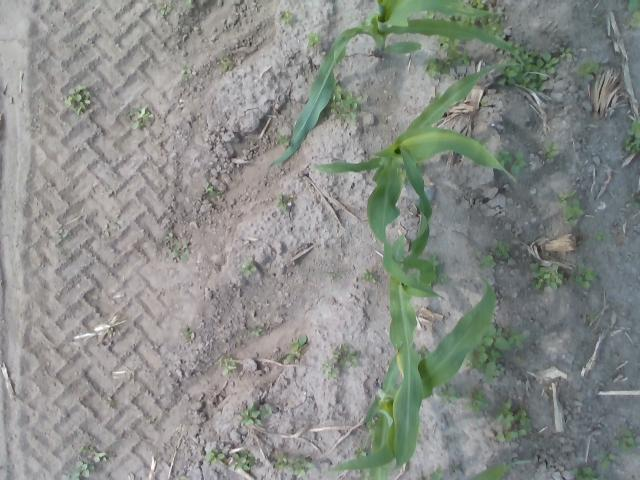Maize: (314, 68, 518, 294), (267, 0, 524, 163), (361, 276, 496, 480), (389, 142, 435, 473), (378, 457, 528, 480)
Weeds: (466, 325, 528, 382), (497, 42, 559, 93), (323, 80, 361, 125), (494, 399, 532, 441), (530, 260, 566, 292), (436, 34, 472, 66), (556, 190, 584, 227), (62, 83, 92, 115), (274, 454, 314, 478), (492, 148, 526, 173), (569, 262, 598, 289), (240, 403, 272, 426), (125, 106, 153, 132), (282, 333, 308, 361), (428, 252, 448, 286), (366, 395, 380, 442), (334, 343, 359, 369), (439, 11, 476, 28), (623, 118, 640, 154), (465, 386, 488, 412), (613, 428, 637, 452), (65, 460, 93, 480), (478, 15, 503, 37), (436, 382, 460, 404), (572, 465, 606, 480), (78, 445, 106, 463), (471, 250, 496, 270), (423, 58, 450, 76), (577, 59, 599, 79), (232, 451, 255, 470), (493, 238, 511, 260), (171, 242, 190, 262), (627, 0, 640, 28), (321, 361, 340, 380), (217, 358, 237, 376), (598, 453, 618, 470), (542, 140, 560, 158), (204, 448, 223, 464), (238, 260, 256, 276), (203, 182, 220, 198), (360, 269, 378, 284), (306, 30, 322, 46), (415, 343, 429, 361), (274, 132, 290, 146), (156, 3, 172, 16), (279, 10, 293, 24), (354, 444, 368, 458), (275, 194, 287, 210), (560, 46, 574, 59), (458, 0, 484, 7), (221, 56, 232, 72), (50, 232, 66, 243), (180, 325, 192, 339), (429, 92, 443, 103), (181, 66, 192, 80), (422, 8, 434, 20), (359, 467, 370, 480), (248, 326, 262, 336), (594, 230, 606, 241), (632, 192, 640, 208), (416, 160, 426, 172), (474, 137, 486, 147), (106, 396, 116, 405), (588, 313, 597, 322), (449, 464, 458, 472), (166, 232, 174, 241), (480, 98, 488, 106), (183, 0, 194, 5), (332, 271, 338, 278)
